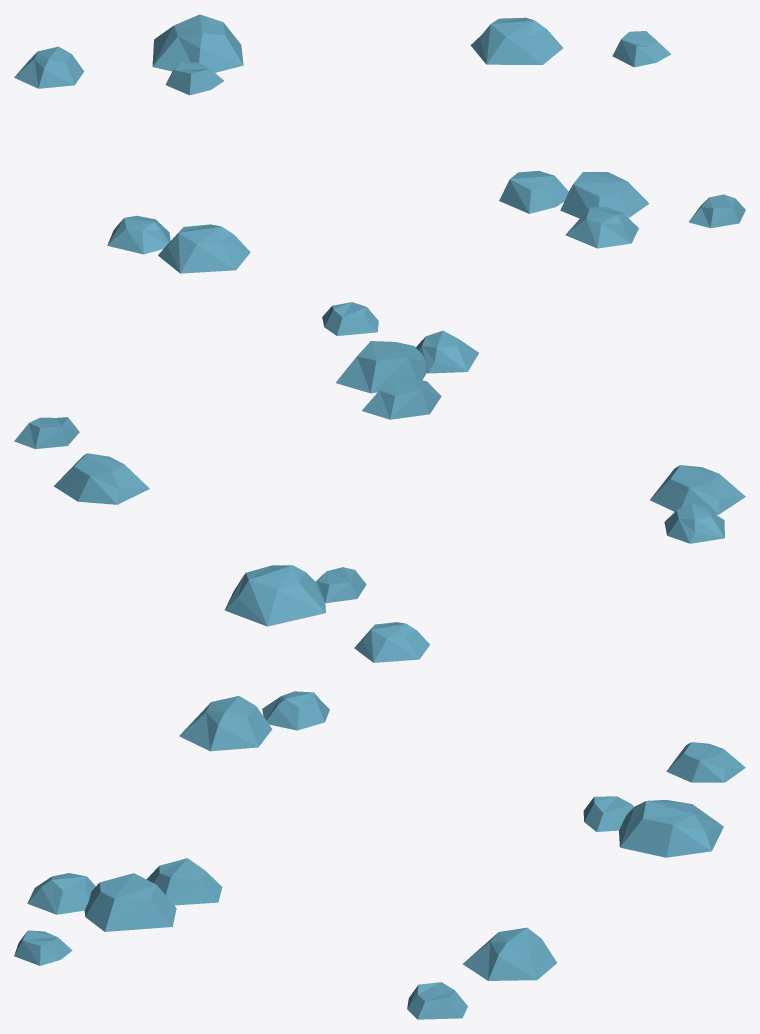
The model's file is SM_Env_Rocks_02.glb.
3 views of the same model, one above another, from view 1: azimuth 30°, elevation 25°; view 2: azimuth 150°, elevation 25°; view 3: azimuth 270°, elevation 25° (orthographic). The views are drawn at different scales.
Parts seen in each view (by area): view 1: SM_Env_Rocks_02; view 2: SM_Env_Rocks_02; view 3: SM_Env_Rocks_02.
Boxes of the visible parts, x1=… form: SM_Env_Rocks_02: x1=14, y1=14, x2=745, y2=273; SM_Env_Rocks_02: x1=14, y1=302, x2=745, y2=662; SM_Env_Rocks_02: x1=14, y1=691, x2=745, y2=1019.
Size of the model in its own units: 0.0426 by 0.00198 by 0.0411.
